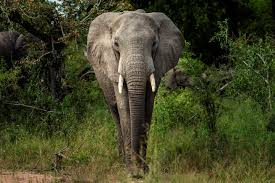Elephant: (79, 11, 195, 178)
